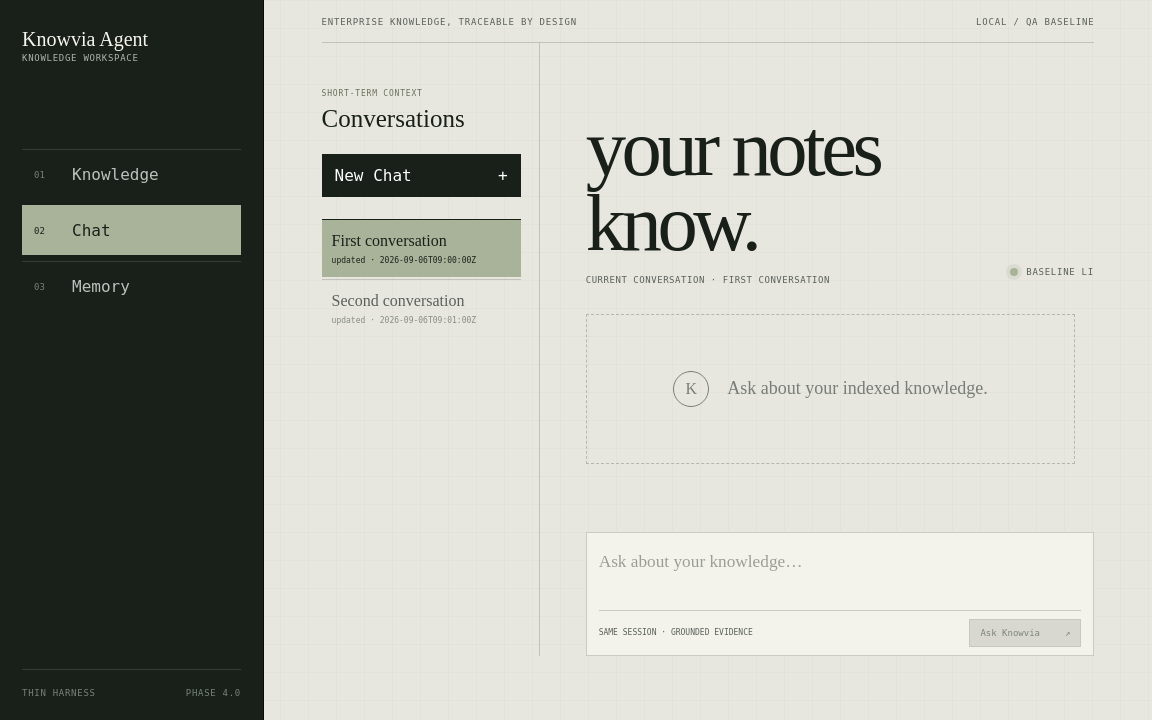
streaming Chat UX › aborts the old session stream before switching and ignores its later events
(page scrolled)
Check: the text "Ask about your indexed knowledge." is shown, box [727,378,988,400]
Type "Session A question" into the text box named "Question" at (840, 577), box [599,543,1081,611]
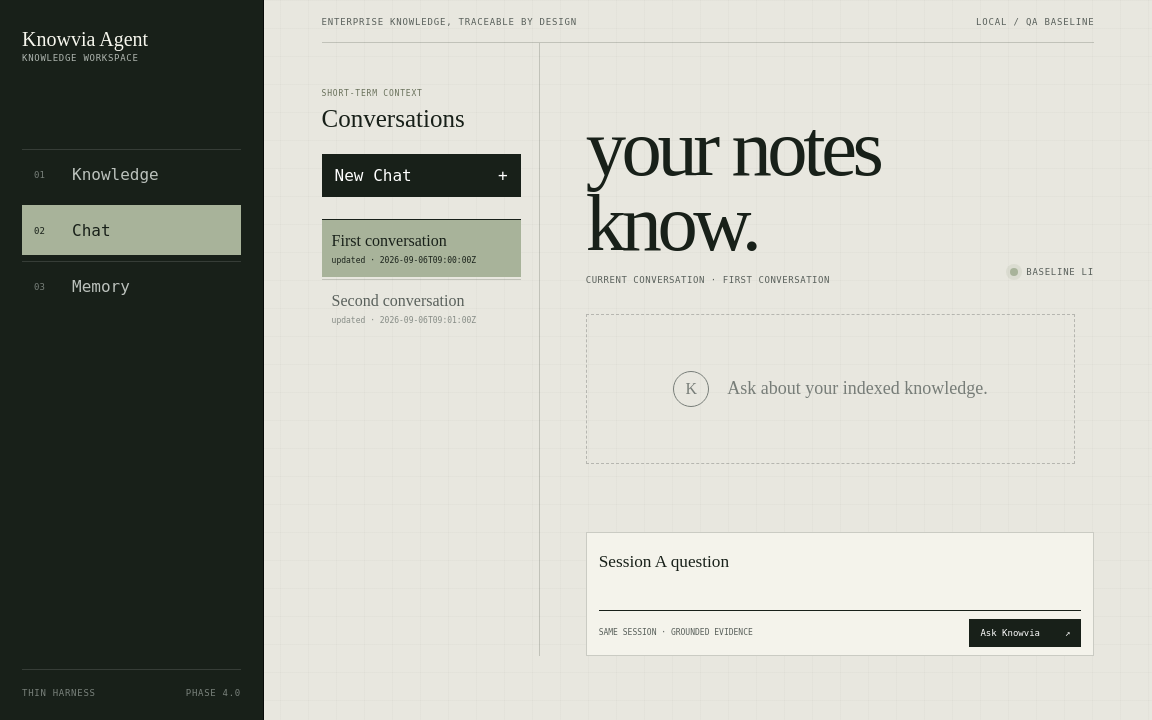
Click the button "Ask Knowvia ↗" at (1025, 633), box [969,619,1081,647]
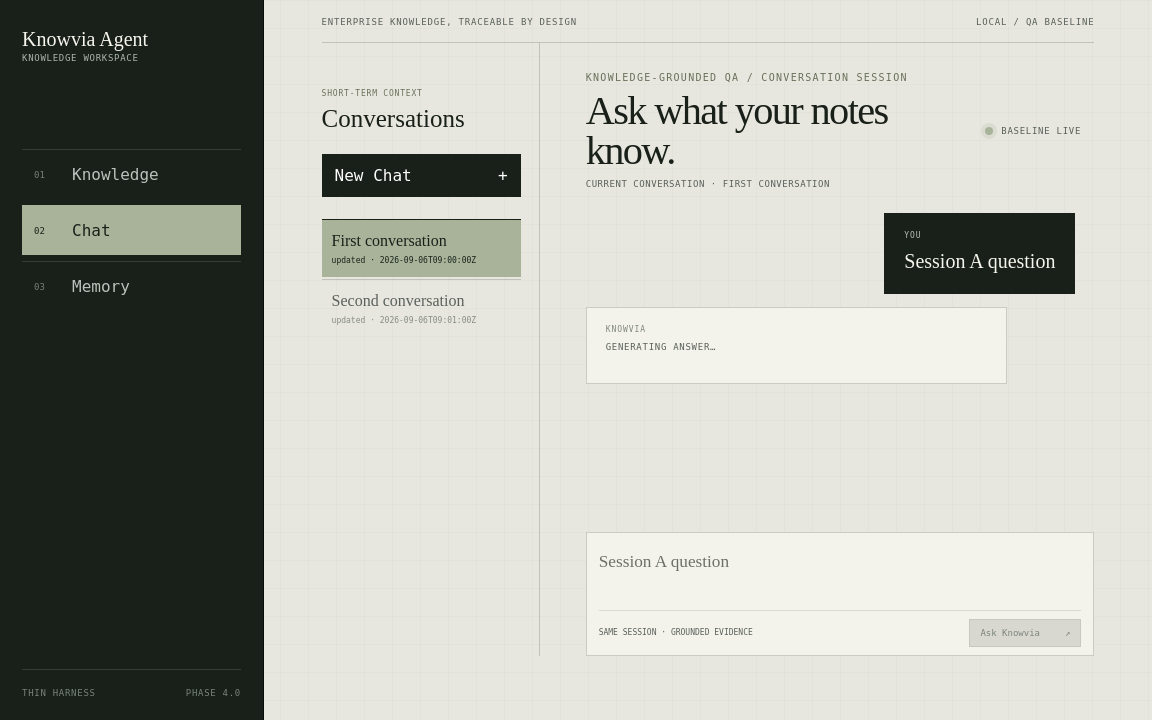
Check: the text "Generating answer…" is shown, box [606,342,716,352]
Click the button "Second conversation updated · 2026-09-06T09:01:00Z" at (421, 308), box [322,279,521,337]
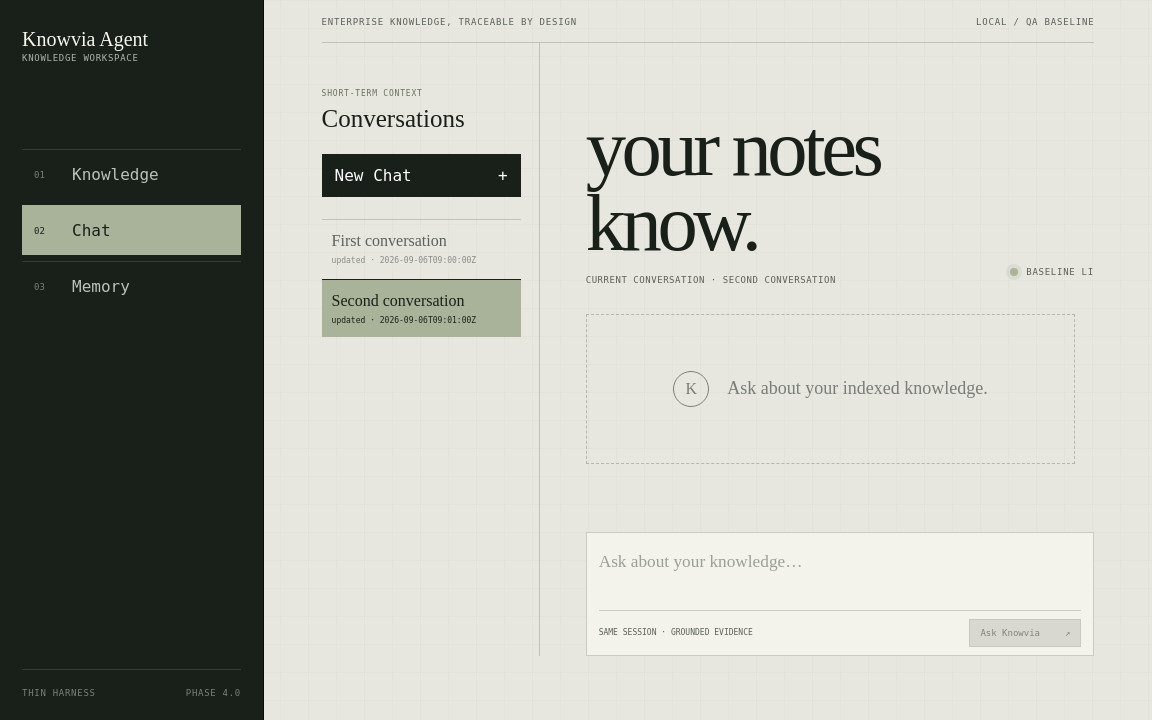
Check: the text "Ask about your indexed knowledge." is shown, box [727,378,988,400]
